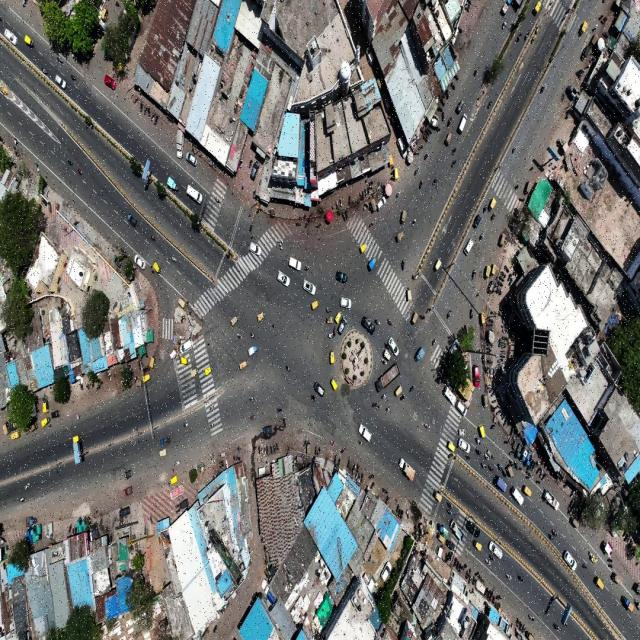3W: (393, 229, 406, 246), (594, 573, 605, 593), (444, 440, 457, 456), (23, 31, 36, 47), (532, 2, 544, 17), (433, 488, 442, 507), (313, 382, 325, 396), (152, 260, 164, 274), (470, 539, 482, 553), (433, 256, 443, 272), (458, 422, 467, 438), (360, 241, 368, 259), (248, 412, 256, 428), (491, 195, 498, 213), (492, 262, 499, 278), (257, 310, 265, 324), (478, 424, 486, 438), (168, 474, 179, 484), (482, 265, 491, 277), (230, 315, 239, 327), (396, 382, 402, 400), (399, 210, 408, 222), (407, 286, 413, 304), (329, 351, 336, 366), (41, 415, 51, 425), (311, 299, 320, 310), (525, 485, 533, 497), (205, 365, 212, 378), (159, 448, 169, 457), (329, 380, 339, 389), (333, 310, 341, 321), (412, 310, 418, 324), (180, 357, 189, 366), (73, 435, 82, 444), (582, 20, 587, 36), (178, 297, 186, 307), (143, 373, 150, 384), (187, 366, 196, 374), (240, 360, 247, 370), (445, 134, 452, 144), (385, 348, 390, 360), (482, 313, 487, 325)
Cars: (388, 330, 403, 358), (186, 183, 205, 204), (360, 313, 376, 336), (276, 268, 292, 290), (441, 383, 456, 406), (511, 487, 526, 509), (488, 537, 503, 559), (562, 549, 577, 570), (467, 517, 481, 538), (339, 294, 354, 313), (334, 267, 347, 287), (134, 251, 147, 270), (105, 70, 118, 89), (472, 365, 482, 389), (179, 339, 195, 354), (460, 437, 473, 455), (464, 234, 473, 260), (249, 238, 261, 257), (303, 277, 317, 293), (337, 314, 348, 334), (55, 74, 68, 90), (456, 114, 468, 131), (360, 424, 372, 440), (289, 255, 302, 269), (456, 402, 468, 417), (186, 152, 199, 165), (454, 98, 465, 112), (474, 214, 481, 229), (123, 470, 132, 479)
LCV: (541, 485, 562, 511), (450, 515, 464, 549), (619, 592, 635, 615), (366, 252, 380, 272), (166, 172, 178, 194), (438, 521, 450, 540), (127, 210, 138, 229), (414, 345, 426, 362), (160, 435, 172, 447), (498, 476, 507, 492), (248, 344, 258, 358), (124, 482, 133, 496)
M2W: (430, 173, 440, 193), (472, 64, 481, 81), (23, 483, 34, 494), (524, 29, 533, 41), (276, 404, 284, 417), (433, 333, 441, 346), (172, 253, 178, 269), (66, 157, 74, 169), (309, 392, 316, 405), (450, 145, 457, 158), (450, 156, 457, 169), (487, 100, 494, 112), (41, 65, 48, 77), (481, 204, 488, 216), (582, 559, 589, 571), (552, 527, 560, 537), (483, 558, 491, 568), (417, 175, 423, 188), (488, 464, 495, 475), (376, 403, 382, 415), (510, 145, 518, 154), (417, 311, 423, 323), (446, 115, 454, 124), (423, 150, 429, 162), (415, 166, 421, 178), (491, 213, 497, 225), (409, 383, 416, 393), (210, 421, 217, 431), (368, 220, 375, 230), (325, 305, 332, 315), (77, 167, 84, 177), (412, 214, 416, 231), (475, 448, 481, 459), (540, 83, 546, 94), (507, 569, 513, 580), (446, 310, 453, 319), (477, 232, 484, 241), (234, 334, 243, 341), (394, 191, 401, 200), (183, 423, 190, 432), (382, 392, 388, 402), (19, 496, 25, 506), (401, 392, 406, 404), (490, 556, 496, 566), (516, 32, 522, 42), (148, 235, 155, 243), (401, 258, 406, 269), (286, 363, 292, 372), (250, 394, 256, 403), (384, 339, 390, 348), (447, 499, 453, 508), (518, 573, 523, 583), (386, 404, 391, 414), (424, 420, 429, 430), (484, 453, 489, 463), (250, 333, 256, 341), (482, 462, 486, 474), (503, 467, 507, 479), (447, 509, 453, 517), (305, 262, 310, 271), (498, 459, 502, 470), (381, 360, 387, 367), (547, 533, 553, 540), (331, 328, 337, 335), (358, 439, 363, 447), (373, 400, 376, 412), (476, 437, 480, 446), (375, 317, 380, 324), (387, 319, 392, 326)
Truck: (372, 362, 400, 394), (399, 458, 415, 481)
